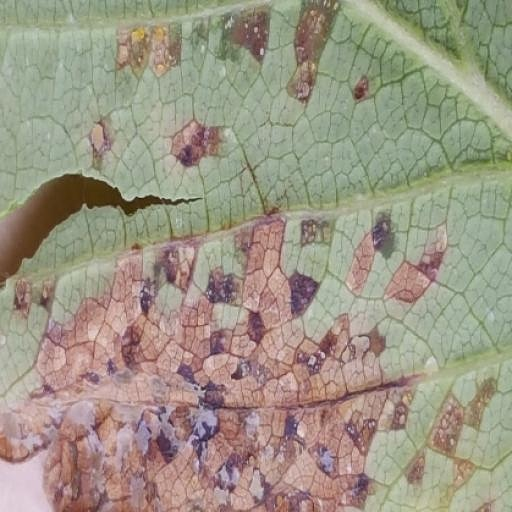Angular Leafspot: (0, 0, 503, 511)
